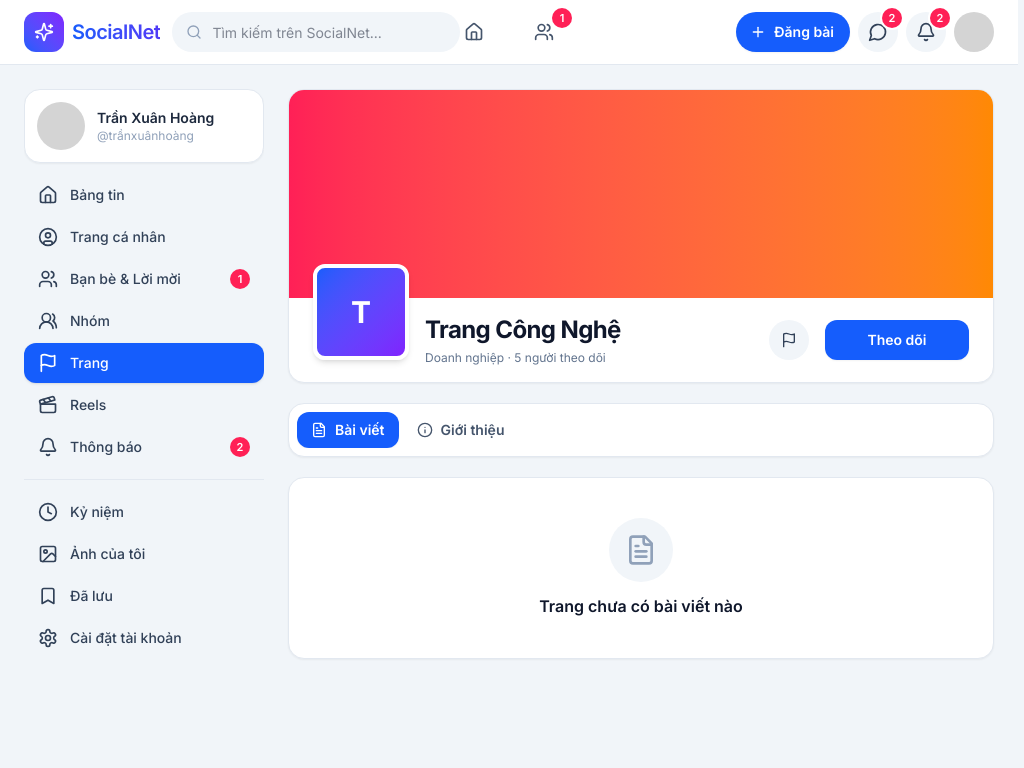
it: Trang — người xem thường › tab Giới thiệu: mô tả, danh mục, website (liên kết), địa chỉ; trang thiếu thông tin → ghi chú
Click the button "Giới thiệu" at {"x": 461, "y": 430}, box [403,412,518,448]
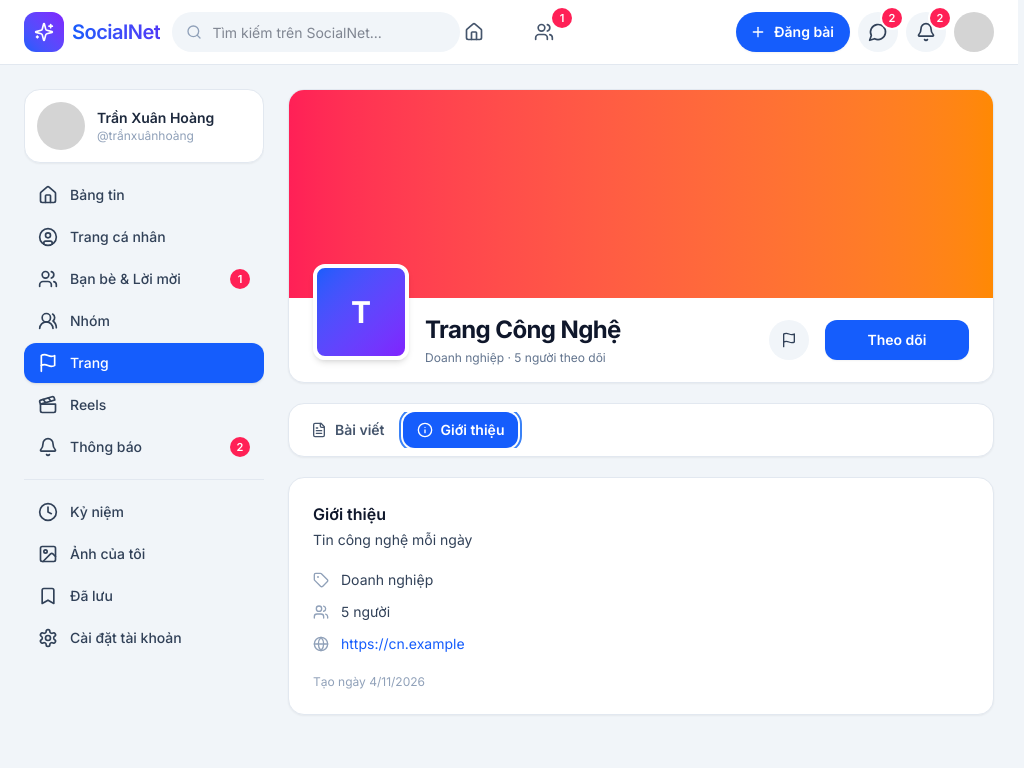
Now the text "Tin công nghệ mỗi ngày" is shown, box [313,531,472,548]
